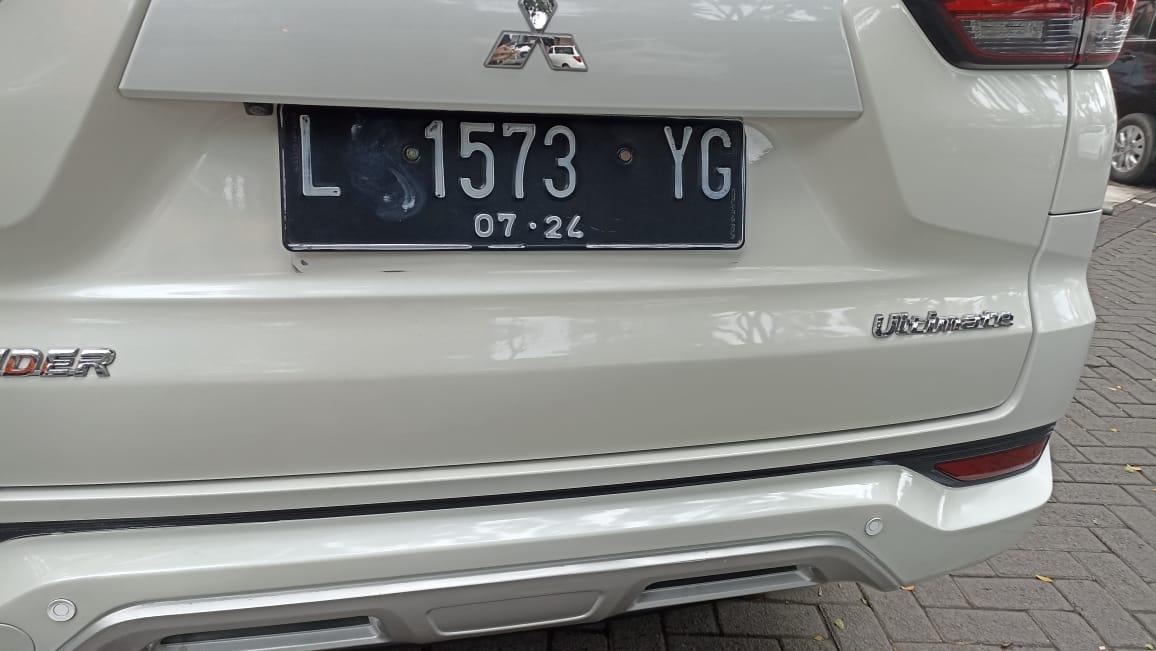plat: (278, 106, 743, 251)
